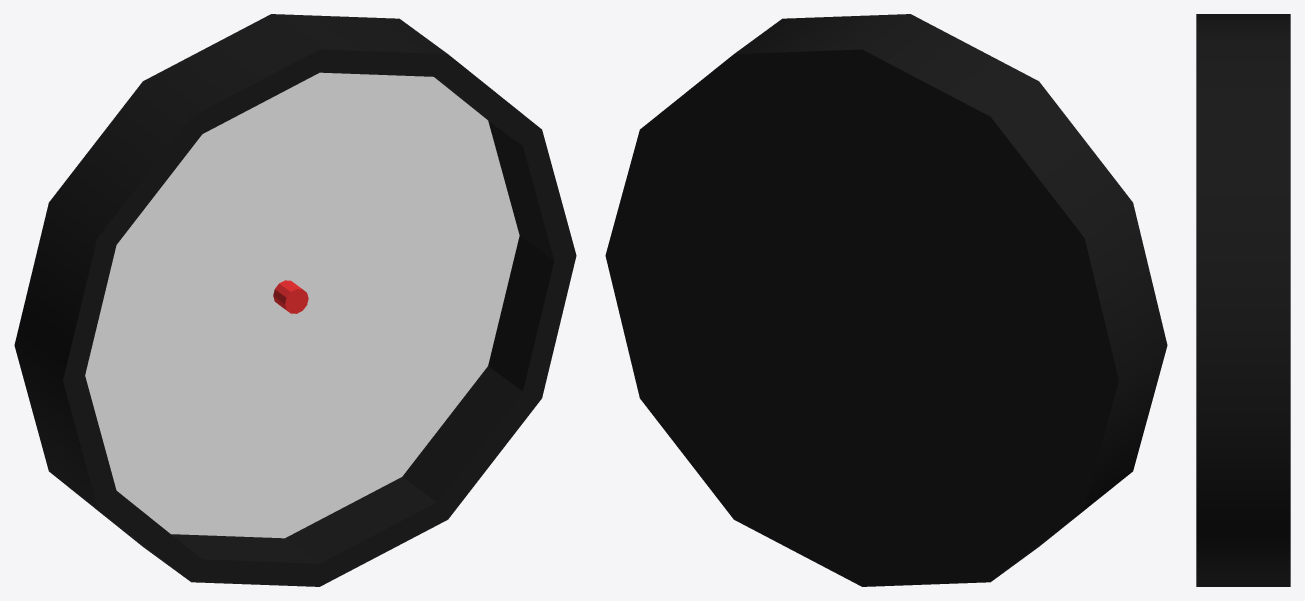
File: Itr_Obj_clock1_02.FBX
3 renders of one model, left to right at view 1: azimuth 30°, elevation 25°; view 2: azimuth 150°, elevation 25°; view 3: azimuth 270°, elevation 25°, orthographic. The views are drawn at different scales.
Parts seen in each view (by area): view 1: Itr_Obj_clock1_02; view 2: Itr_Obj_clock1_02; view 3: Itr_Obj_clock1_02.
Boxes of the visible parts, bbox=[...] form: Itr_Obj_clock1_02: bbox=[14, 14, 576, 586]; Itr_Obj_clock1_02: bbox=[605, 14, 1167, 586]; Itr_Obj_clock1_02: bbox=[1196, 14, 1290, 586].
Size of the model in its own units: 12.23 by 12.23 by 2.
